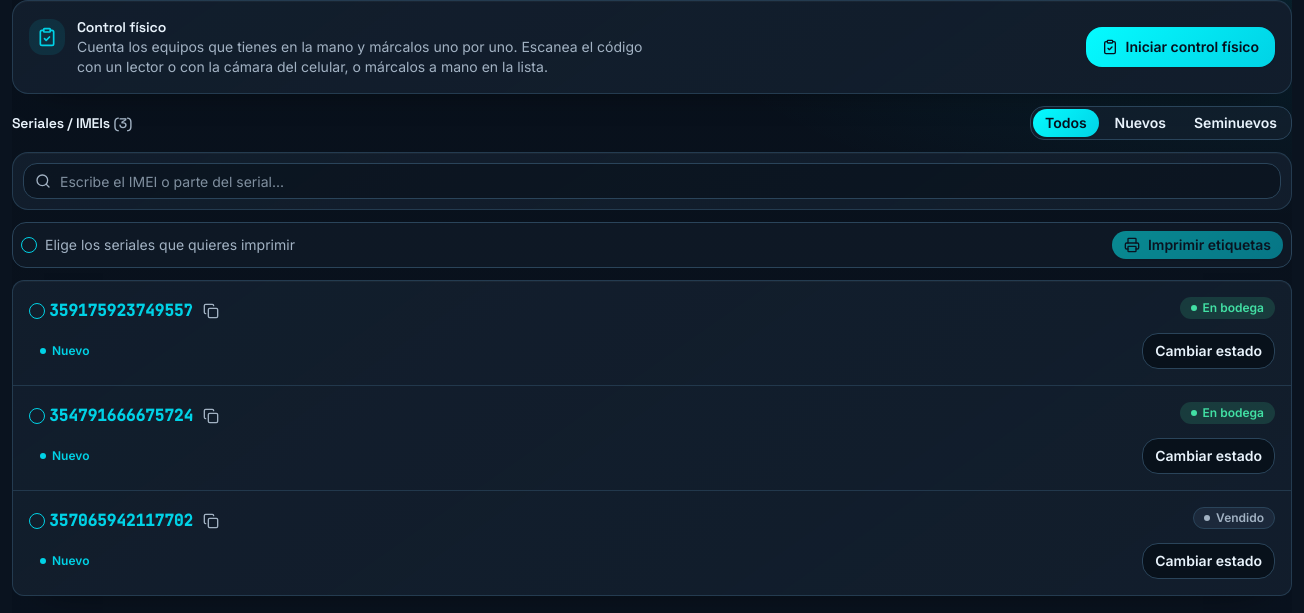
Detalle de producto · búsqueda instantánea de seriales › muestra un estado vacío cuando no hay coincidencias y permite limpiar el filtro
Type "no-existe-imei" into the search field named "Buscar serial o IMEI en esta referencia" at (652, 181), box [23,163,1281,199]
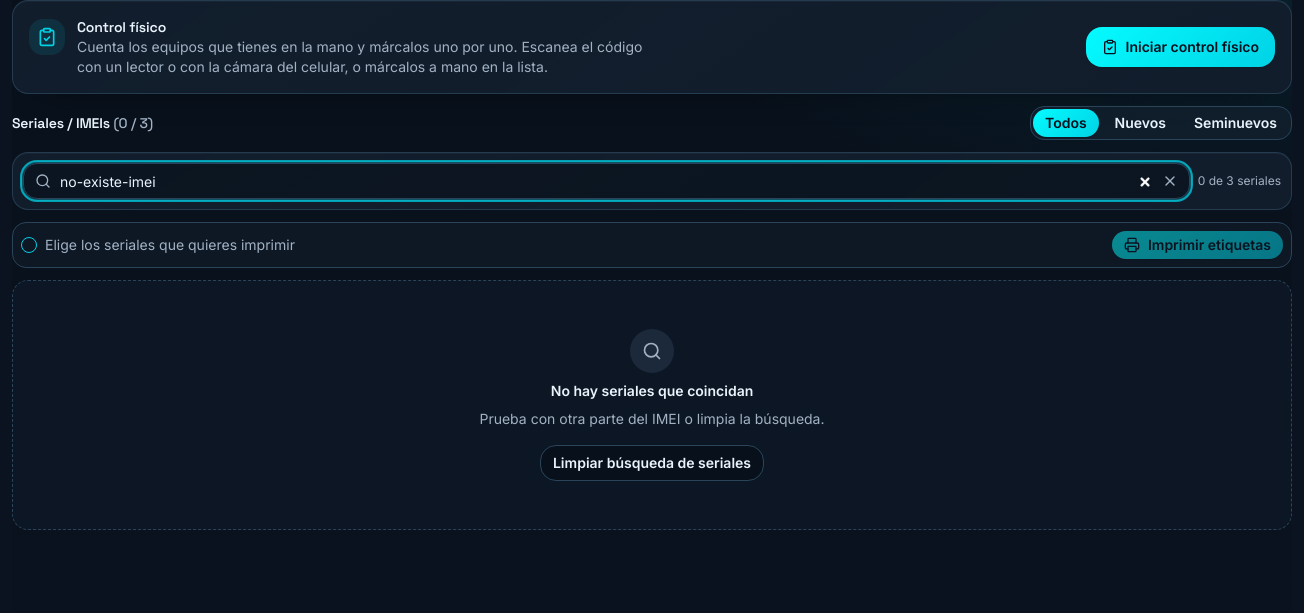
Expected: the text "No hay seriales que coincidan" is shown, [551,381,753,401]
Expected: the text "0 de 3 seriales" is shown, [1198,173,1281,189]
Expected: the button "359175923749557" is gone
Click the button named "Limpiar búsqueda de seriales" at (1170, 181), box [1158,169,1182,193]
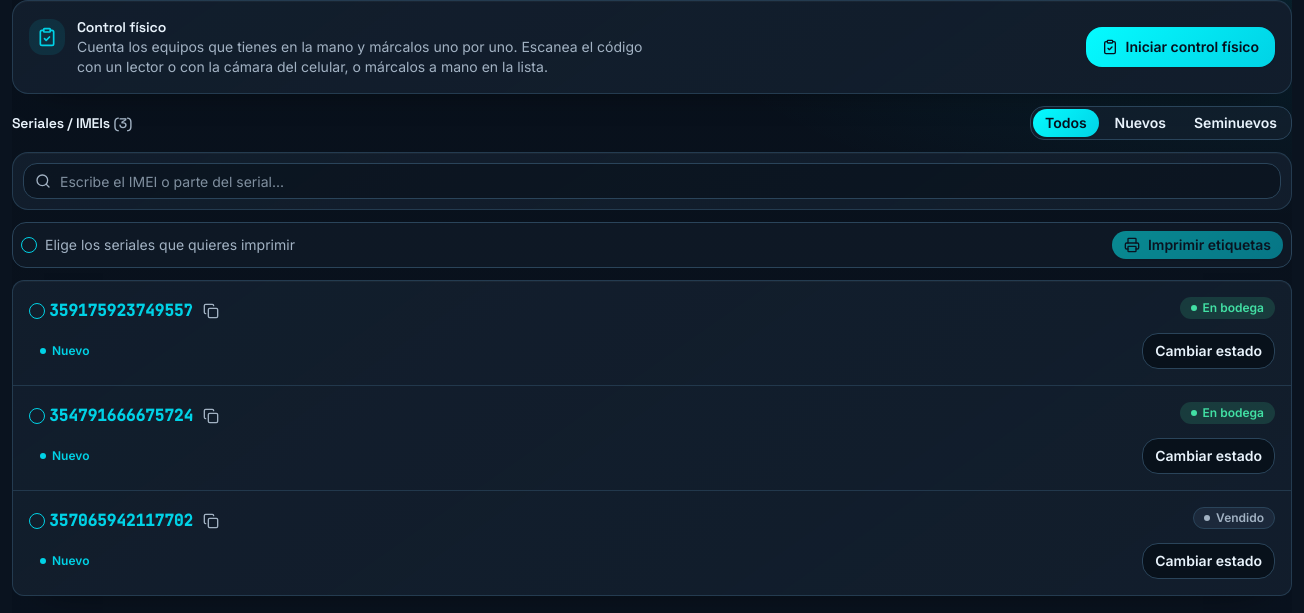
Expected: the button "359175923749557" is shown, [49,299,193,323]
